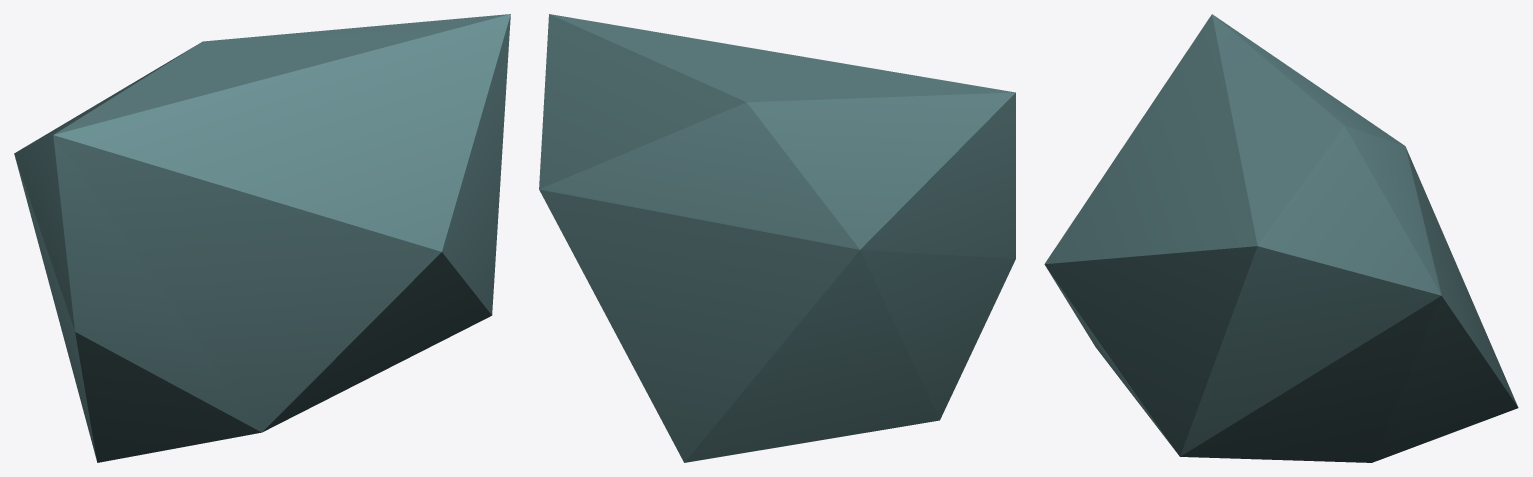
The model's file is oxide-asteroid-chunk.glb.
The picture shows the model from 3 angles, left to right: view 1: azimuth 30°, elevation 25°; view 2: azimuth 150°, elevation 25°; view 3: azimuth 270°, elevation 25°; orthographic projection. The views are drawn at different scales.
Visible parts, largest first — view 1: oxide-asteroid-chunk; view 2: oxide-asteroid-chunk; view 3: oxide-asteroid-chunk.
Part boxes in pixels (x1,y1,x2,y2): oxide-asteroid-chunk: [14, 14, 510, 462]; oxide-asteroid-chunk: [539, 14, 1015, 462]; oxide-asteroid-chunk: [1044, 14, 1518, 462].
Bounding box in the file's own units: 0.24 × 0.17 × 0.22.
